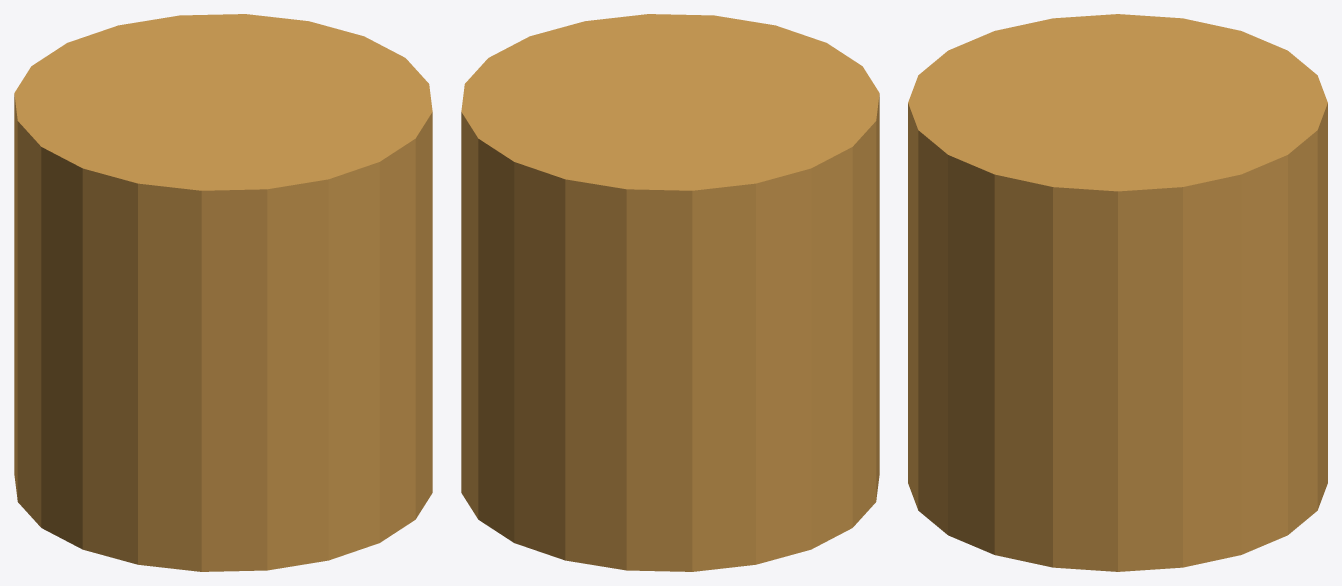
File: asset.glb
3 renders of one model, left to right at view 1: azimuth 30°, elevation 25°; view 2: azimuth 150°, elevation 25°; view 3: azimuth 270°, elevation 25°, orthographic.
Visible parts, largest first — view 1: Mesh_Mesh_head_geo.001_lambert2SG.001; view 2: Mesh_Mesh_head_geo.001_lambert2SG.001; view 3: Mesh_Mesh_head_geo.001_lambert2SG.001.
Boxes of the visible parts, x1,y1,x2,y2 form: Mesh_Mesh_head_geo.001_lambert2SG.001: [14, 14, 432, 571]; Mesh_Mesh_head_geo.001_lambert2SG.001: [461, 14, 879, 571]; Mesh_Mesh_head_geo.001_lambert2SG.001: [908, 14, 1327, 571].
Size of the model in its own units: 20 by 20 by 20.
